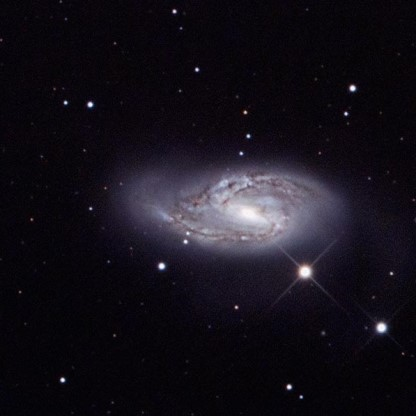Messier 66: (83, 145, 354, 301)
